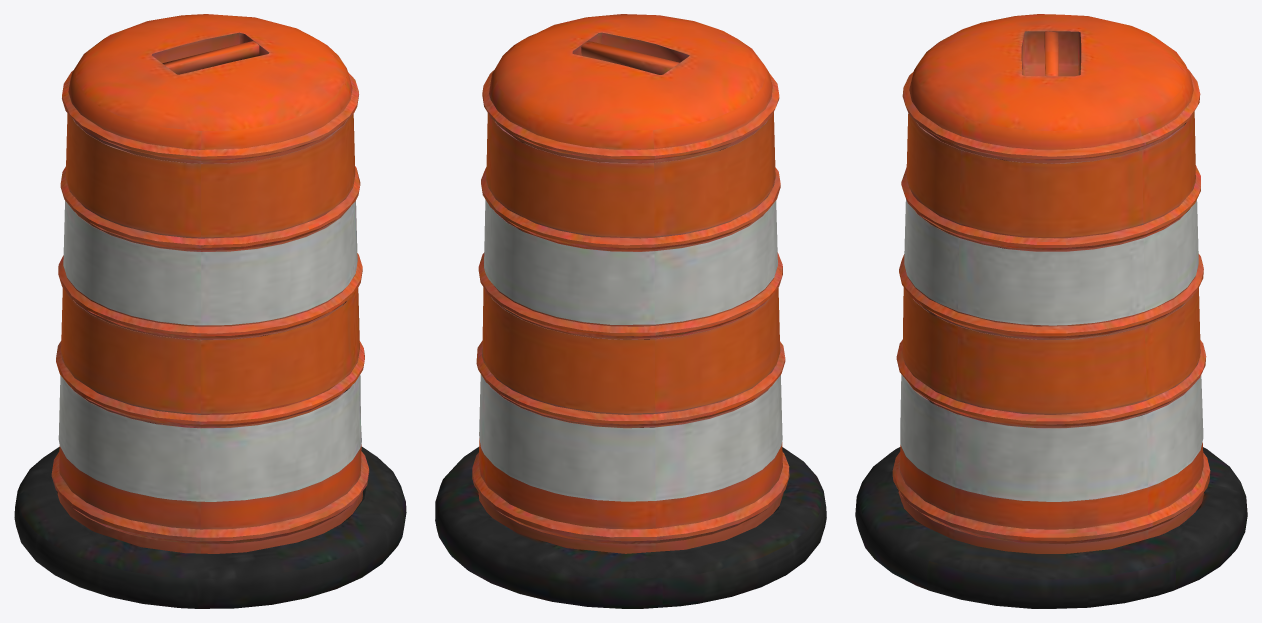
Rendered from traffic-barrel.glb.
3 views of the same model, side by side, from view 1: azimuth 30°, elevation 25°; view 2: azimuth 150°, elevation 25°; view 3: azimuth 270°, elevation 25° (orthographic).
Parts seen in each view (by area): view 1: traffic-barrel_body; view 2: traffic-barrel_body; view 3: traffic-barrel_body.
Part boxes in pixels (box(x1,y1,x2,y2)): traffic-barrel_body: box(14, 14, 406, 608); traffic-barrel_body: box(435, 14, 826, 608); traffic-barrel_body: box(855, 14, 1247, 608).
Bounding box in the file's own units: 0.7305 × 0.985 × 0.7339.
Materials: 1 (1 with a texture image).
